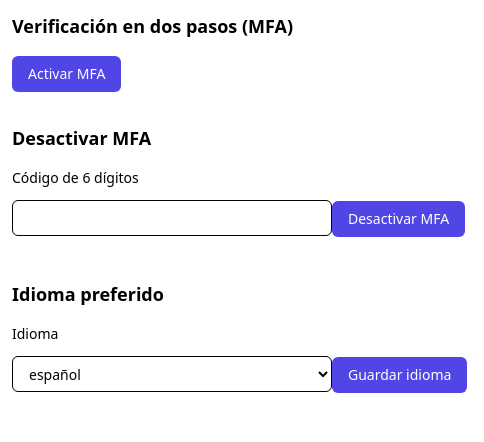
Test: SecurityPanel › reports a wrong code when disabling MFA
Type "000000" into the field labelled "Código de 6 dígitos" at point(172, 218), box [12, 200, 332, 236]
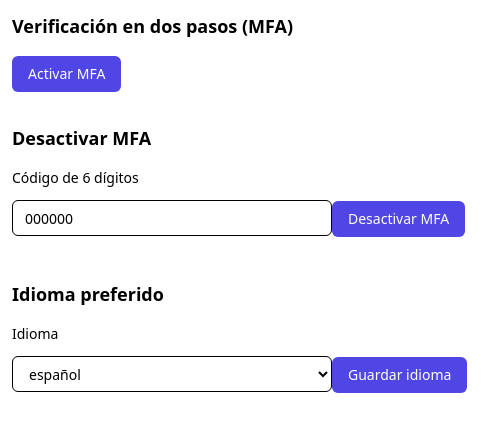
Click the button "Desactivar MFA" at point(399, 218), box [332, 200, 465, 236]
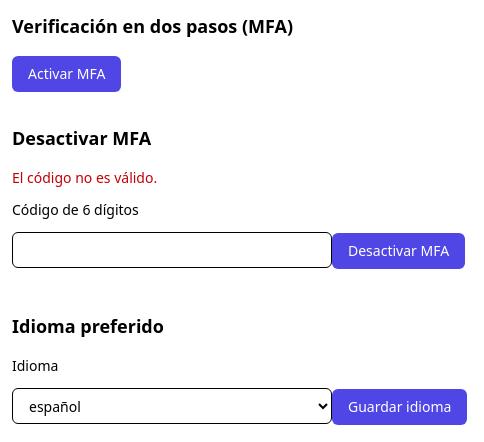
Now the message reads "El código no es válido.", box [12, 168, 157, 187]
